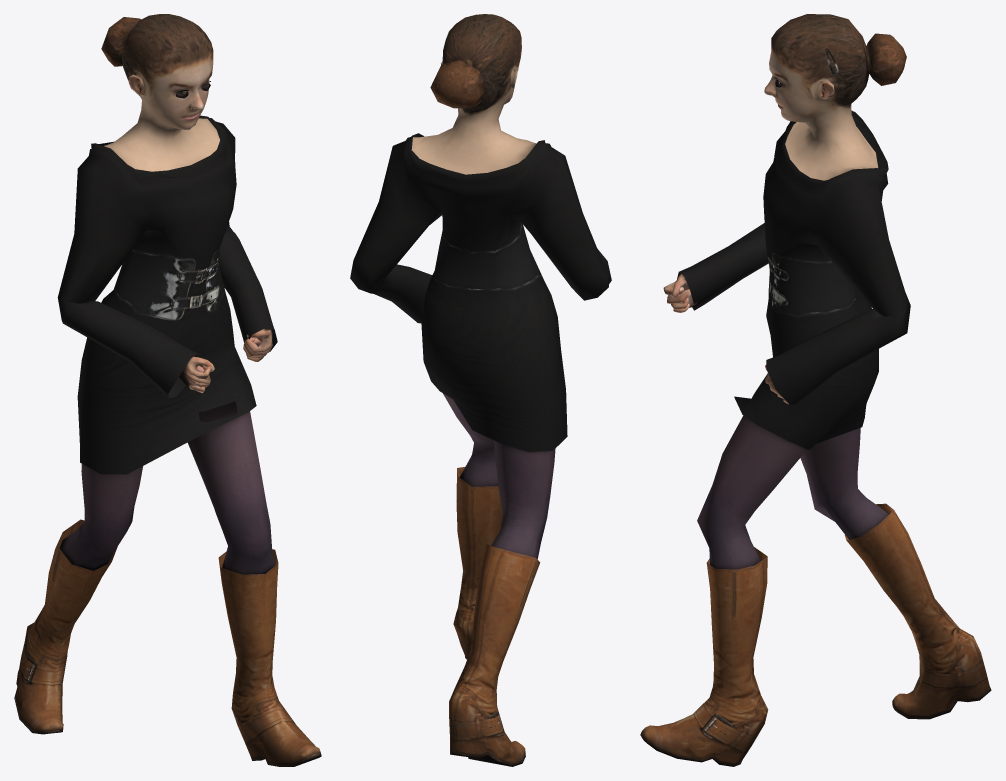
Rendered from Ana_Model_000001.obj.
The picture shows the model from 3 angles, left to right: view 1: azimuth 30°, elevation 25°; view 2: azimuth 150°, elevation 25°; view 3: azimuth 270°, elevation 25°; orthographic projection. The views are drawn at different scales.
Visible parts, largest first — view 1: Ana_Cube.004; view 2: Ana_Cube.004; view 3: Ana_Cube.004.
Boxes of the visible parts, bbox=[...] form: Ana_Cube.004: bbox=[14, 14, 321, 766]; Ana_Cube.004: bbox=[350, 14, 611, 766]; Ana_Cube.004: bbox=[640, 14, 991, 766].
Bounding box in the file's own units: 0.5968 × 1.89 × 0.8234.
1 material, 1 textured.
